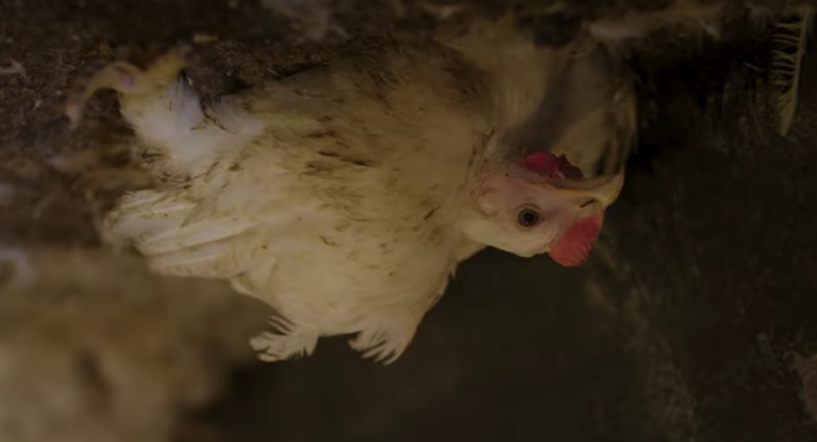Unhealthy: (80, 19, 660, 378)
